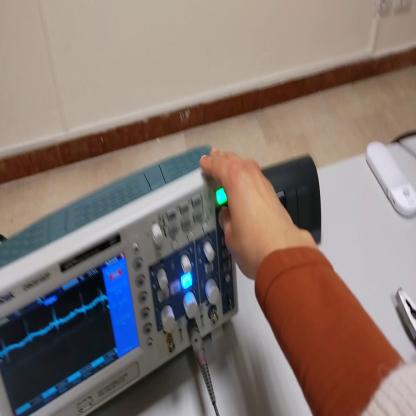hand: (199, 148, 297, 284)
oscilloscope: (1, 144, 242, 416)
pliers: (397, 286, 415, 347)
